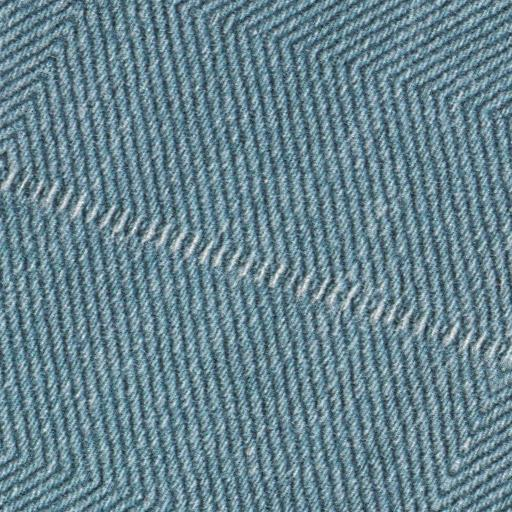slub: (0, 155, 511, 377)
